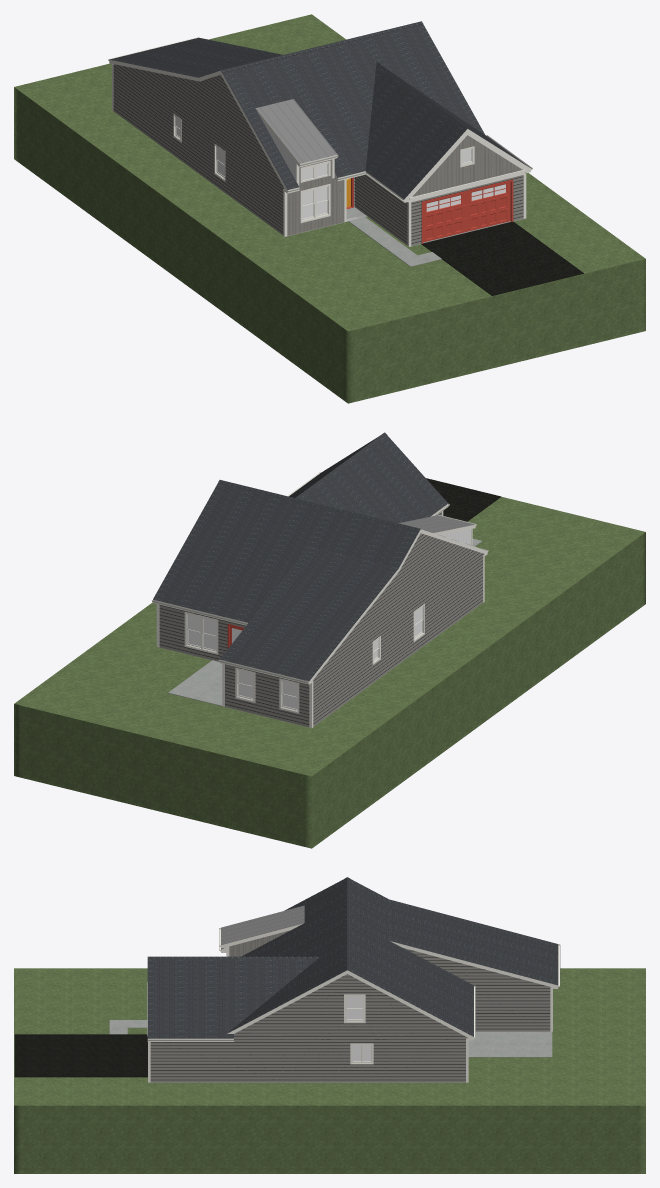
File: house.dae
3 views of the same model, one above another, from view 1: azimuth 30°, elevation 25°; view 2: azimuth 150°, elevation 25°; view 3: azimuth 270°, elevation 25° (orthographic). The views are drawn at different scales.
Visible parts, largest first — view 1: geo_202, geo_131, geo_162, geo_210, geo_11, geo_175, geo_208, geo_170, geo_127, geo_188; view 2: geo_202, geo_131, geo_162, geo_11, geo_127, geo_210, geo_188, geo_170; view 3: geo_202, geo_131, geo_162, geo_210, geo_11, geo_188, geo_170, geo_127, geo_171.
Part boxes in pixels (left/top/right/bottom): geo_202: left=14, top=14, right=645, bottom=403; geo_131: left=109, top=21, right=529, bottom=199; geo_162: left=113, top=64, right=523, bottom=246; geo_210: left=421, top=221, right=583, bottom=295; geo_11: left=108, top=37, right=532, bottom=246; geo_175: left=287, top=135, right=522, bottom=235; geo_208: left=346, top=177, right=513, bottom=243; geo_170: left=255, top=99, right=337, bottom=163; geo_127: left=175, top=117, right=505, bottom=218; geo_188: left=346, top=207, right=510, bottom=266; geo_202: left=14, top=496, right=645, bottom=848; geo_131: left=153, top=432, right=448, bottom=681; geo_162: left=159, top=512, right=483, bottom=726; geo_11: left=152, top=472, right=488, bottom=727; geo_127: left=188, top=607, right=422, bottom=708; geo_210: left=426, top=478, right=501, bottom=521; geo_188: left=168, top=538, right=482, bottom=706; geo_170: left=398, top=515, right=474, bottom=532; geo_202: left=14, top=968, right=645, bottom=1173; geo_131: left=147, top=877, right=558, bottom=1038; geo_162: left=150, top=948, right=550, bottom=1082; geo_210: left=14, top=1034, right=147, bottom=1077; geo_11: left=147, top=923, right=560, bottom=1082; geo_188: left=109, top=1020, right=552, bottom=1057; geo_170: left=221, top=905, right=304, bottom=944; geo_127: left=347, top=996, right=370, bottom=1061; geo_171: left=229, top=930, right=290, bottom=956.
Bounding box in the file's own units: 648 × 1259 × 400.
53 materials, 29 textured.
